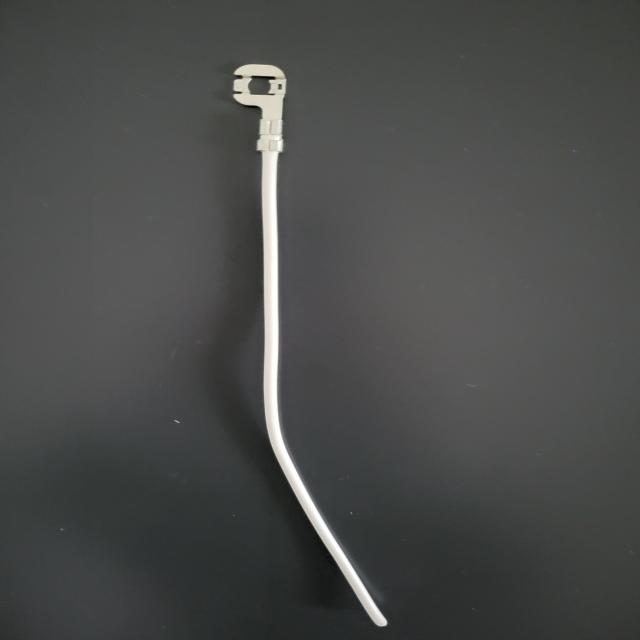defect: (216, 108, 347, 166)
